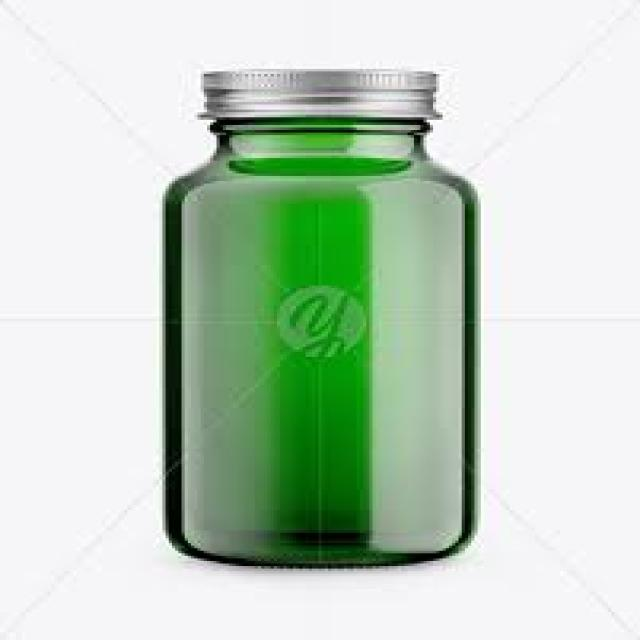glass: (159, 117, 471, 566)
metal: (198, 66, 437, 112)
